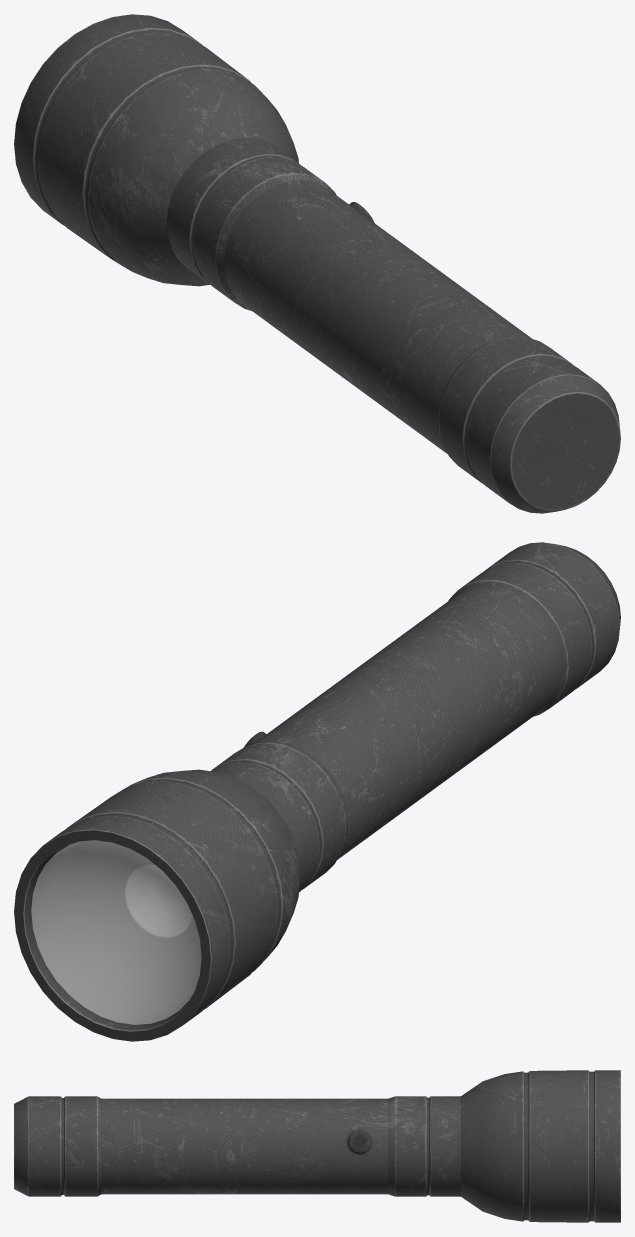
Rendered from flashlight.glb.
3 views of the same model, one above another, from view 1: azimuth 30°, elevation 25°; view 2: azimuth 150°, elevation 25°; view 3: azimuth 270°, elevation 25° (orthographic). The views are drawn at different scales.
Visible parts, largest first — view 1: Flashlight; view 2: Flashlight; view 3: Flashlight.
Part boxes in pixels (<box>): Flashlight: <box>14,14,620,513</box>; Flashlight: <box>14,542,620,1041</box>; Flashlight: <box>14,1070,620,1222</box>.
Bounding box in the file's own units: 25.15 × 25.15 × 100.
2 materials, 2 textured.
